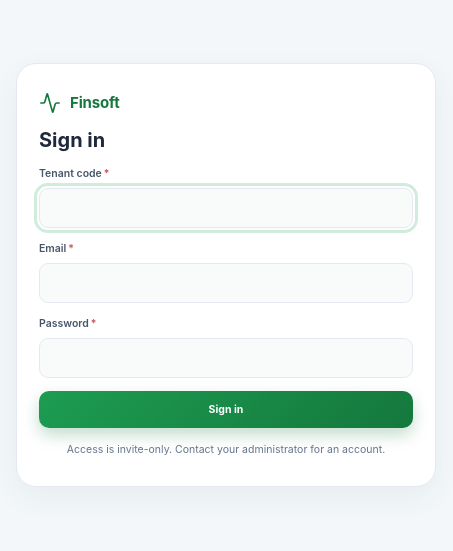
Test case: LoginScreen › shows a network-error message with a Try again action on a transport failure
The width and height of the screenshot is (453, 551).
In the field labelled "Tenant code *": (226, 208) [39,188,413,228], type "ACME"
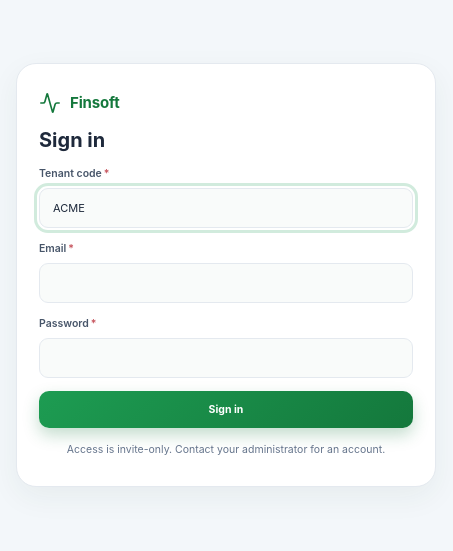
In the field labelled "Email *": (226, 283) [39,263,413,303], type "a@b.com"
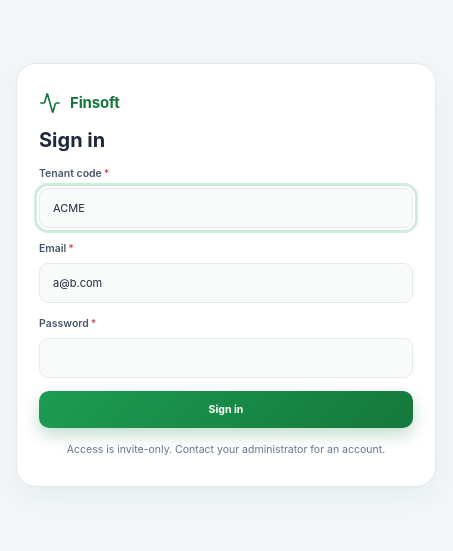
In the password field labelled "Password *": (226, 358) [39,338,413,378], type "x"
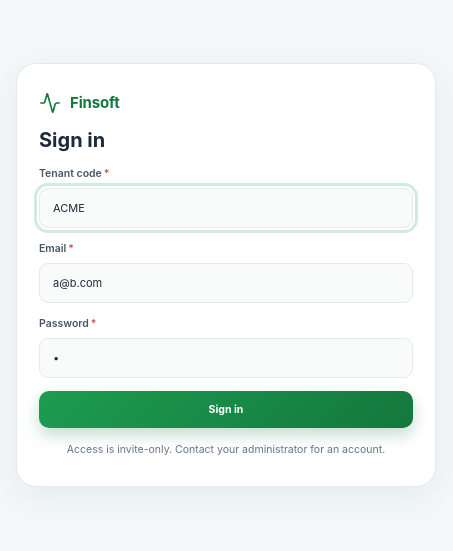
Click the button "Sign in": (226, 410) [39,392,413,428]
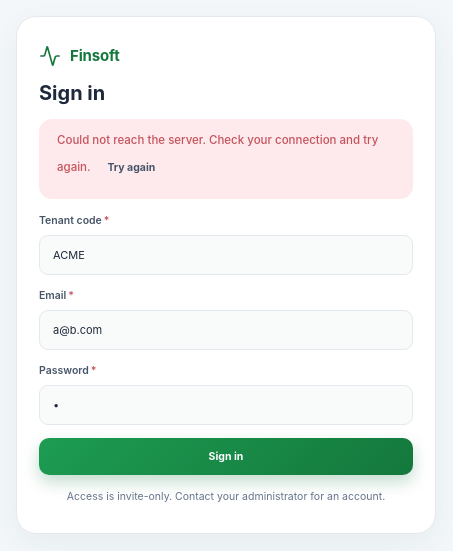
Check: the text "Could not reach the server" is shown, box [57,133,378,174]
Check: the button "Try again" is shown, box [94,149,169,186]
